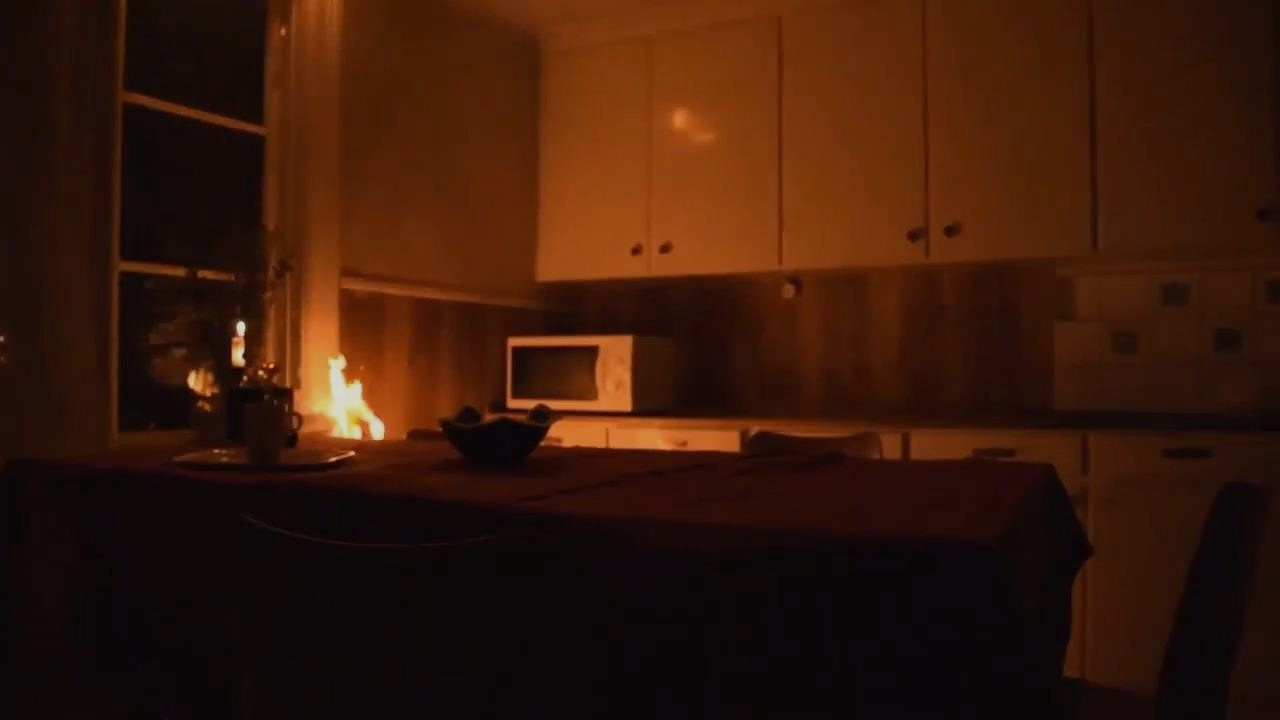fire: (290, 341, 397, 453)
